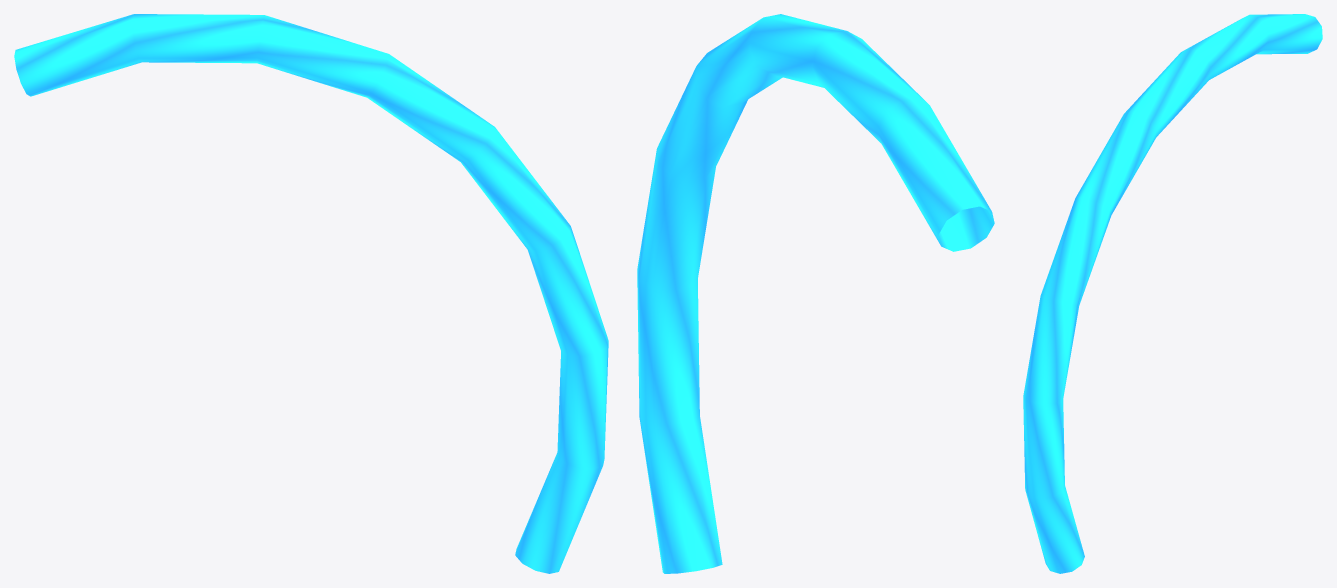
File: melee-slash.glb
3 renders of one model, left to right at view 1: azimuth 30°, elevation 25°; view 2: azimuth 150°, elevation 25°; view 3: azimuth 270°, elevation 25°, orthographic. The views are drawn at different scales.
Parts seen in each view (by area): view 1: slash-crescent; view 2: slash-crescent; view 3: slash-crescent.
Part boxes in pixels (x1,y1,x2,y2): slash-crescent: (14,14,608,573); slash-crescent: (637,14,994,573); slash-crescent: (1023,14,1322,573).
Bounding box in the file's own units: 0.1828 × 0.2173 × 0.1344.
1 material, 1 textured.
